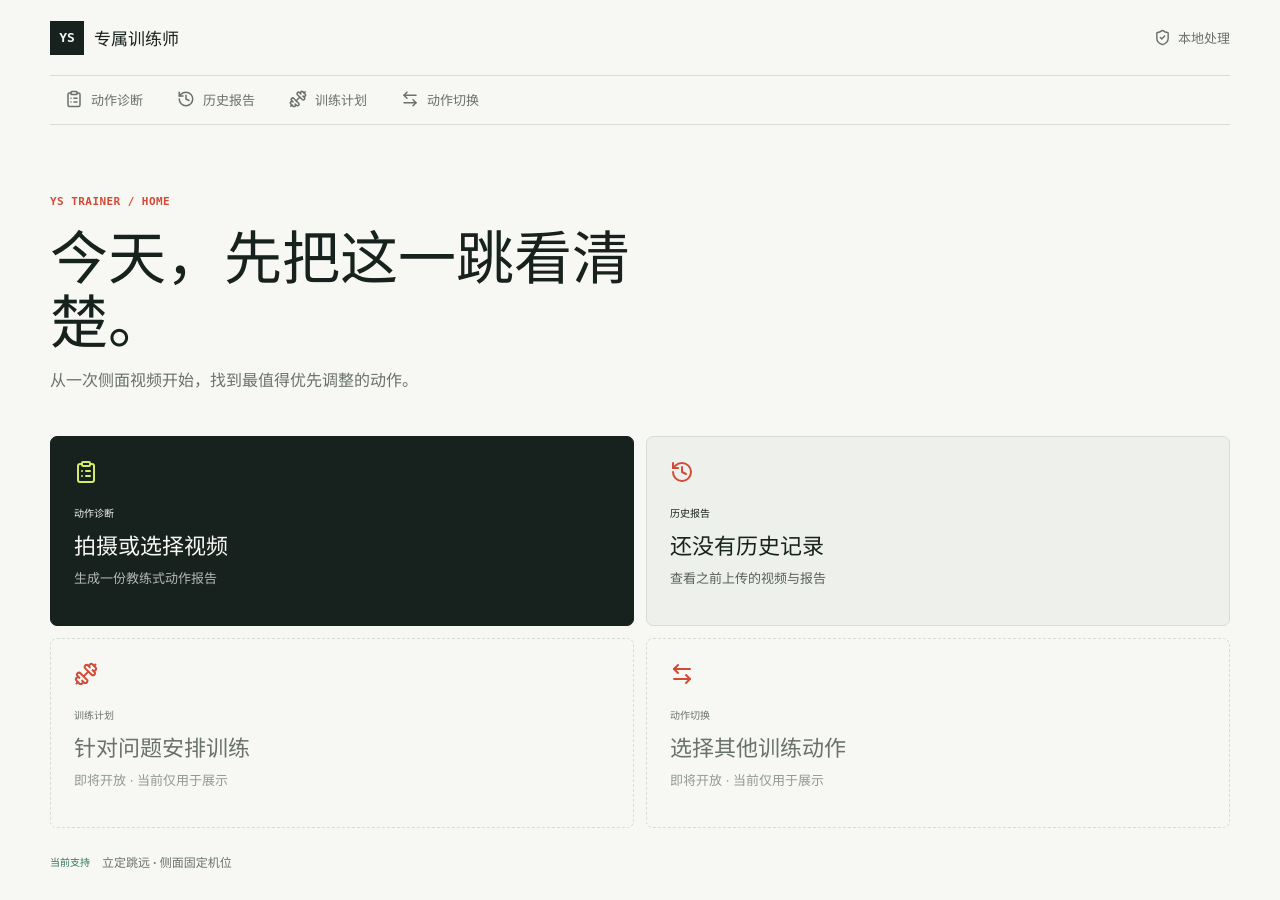
Test: 视频准备页 › 提供拍摄和本地选择两个视频入口
Click the button "动作诊断": (104, 100) [50,76,158,124]
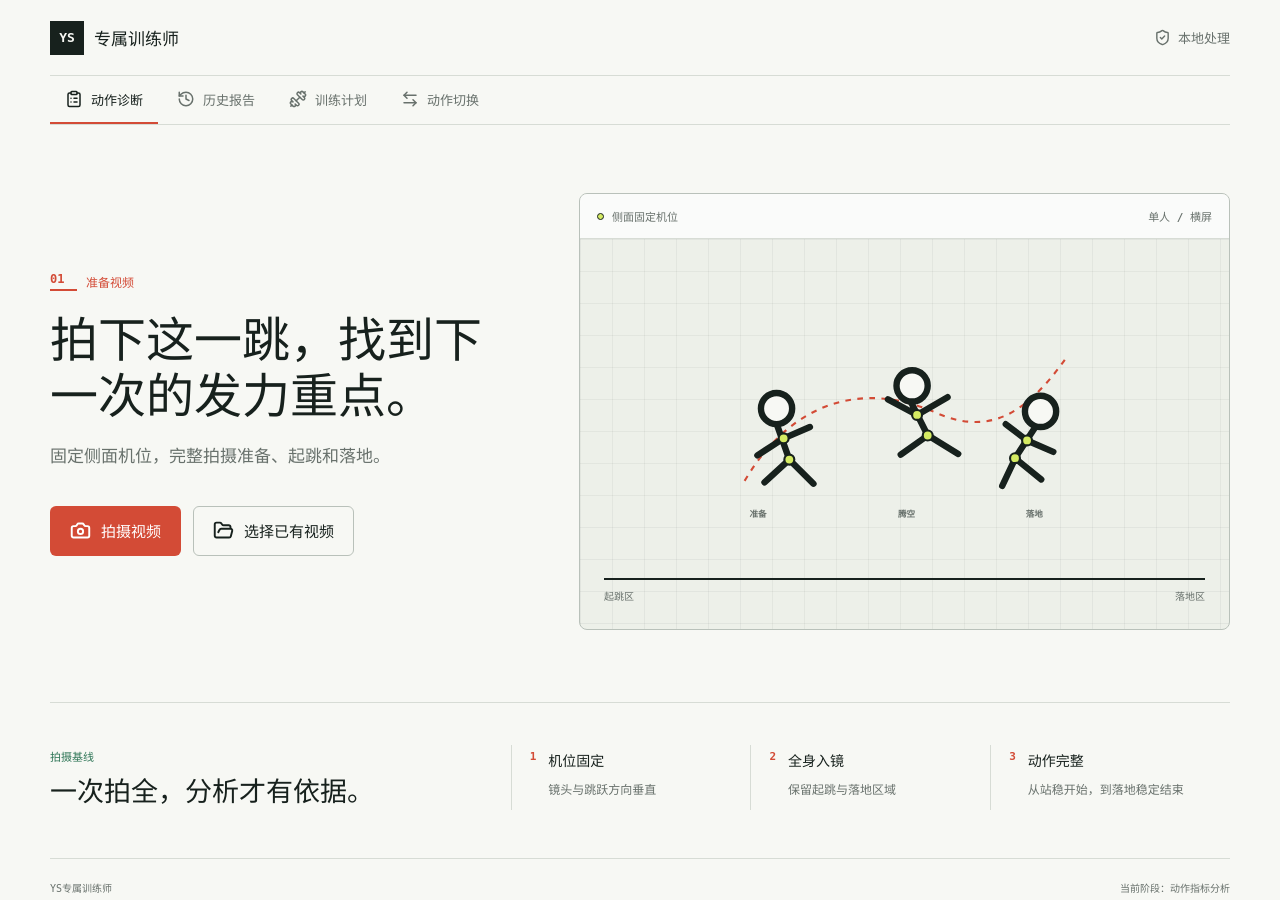
Expected: the button "拍摄视频" is shown, [50,506,181,556]
Expected: the button "选择已有视频" is shown, [193,506,354,556]
